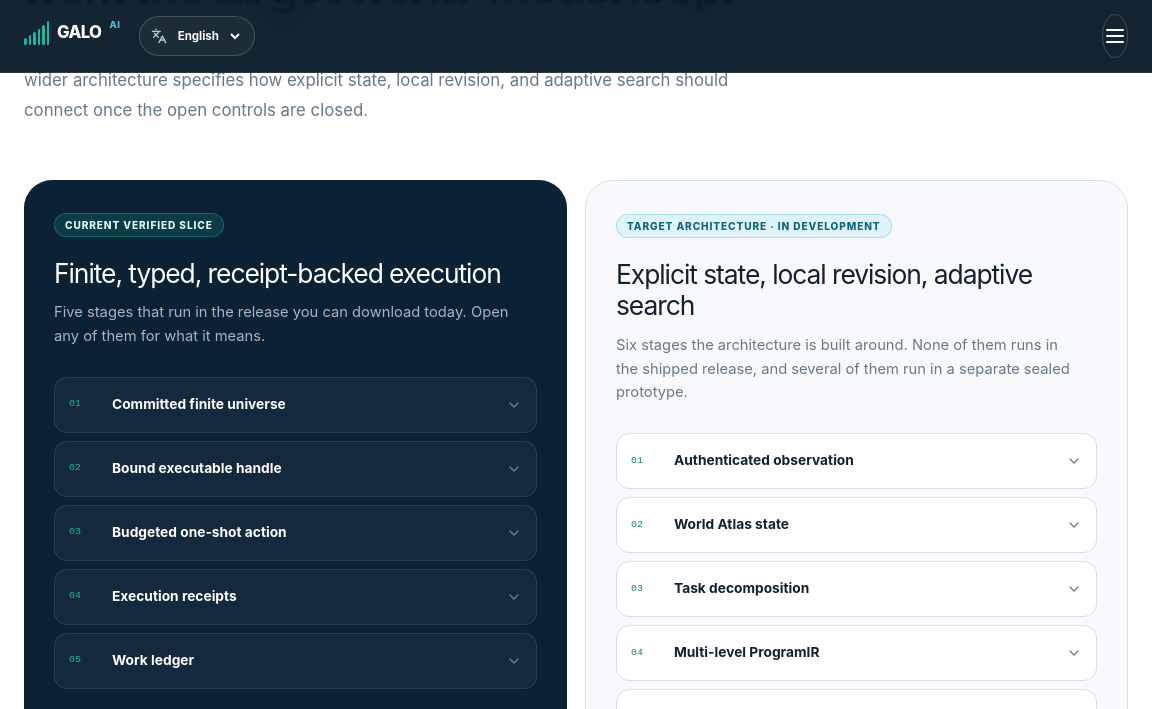
GALO public site › makes every architecture stage open, because a chevron that does nothing reads as broken
The width and height of the screenshot is (1152, 709).
(page scrolled)
expect the heading "02 Bound executable handle" is shown: met, box [69,460,522,477]
expect the heading "03 Budgeted one-shot action" is shown: met, box [69,524,522,541]
Step 1. Click the heading "01 Committed finite universe" → click(199, 404), box [69,396,522,413]
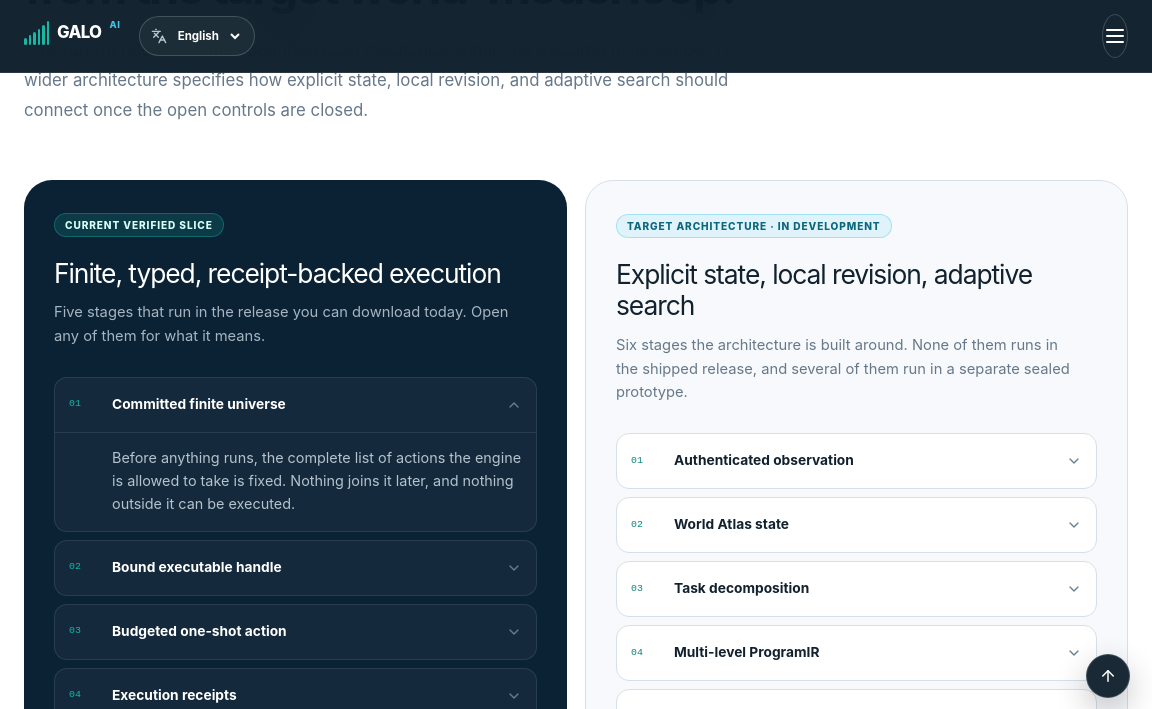
expect the element that starts with "Committed finite universe" shows "the complete list of actions the engine is allowed to take is fixed": met, box [112,448,521,512]
